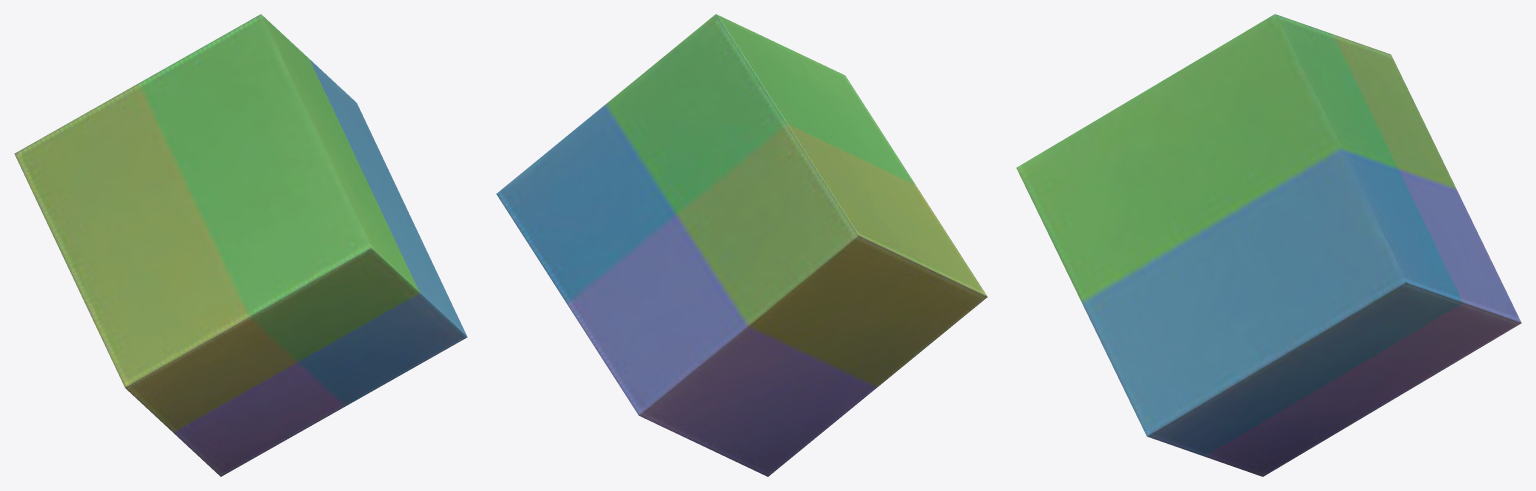
The model's file is Rubik.glb.
3 renders of one model, left to right at view 1: azimuth 30°, elevation 25°; view 2: azimuth 150°, elevation 25°; view 3: azimuth 270°, elevation 25°, orthographic. The views are drawn at different scales.
Parts seen in each view (by area): view 1: Rubik_Export; view 2: Rubik_Export; view 3: Rubik_Export.
Part boxes in pixels (x1,y1,x2,y2): Rubik_Export: (14,14,467,476); Rubik_Export: (496,14,987,476); Rubik_Export: (1016,14,1521,476).
Bounding box in the file's own units: 0.9981 × 1.19 × 1.12.
Materials: 1 (1 with a texture image).
